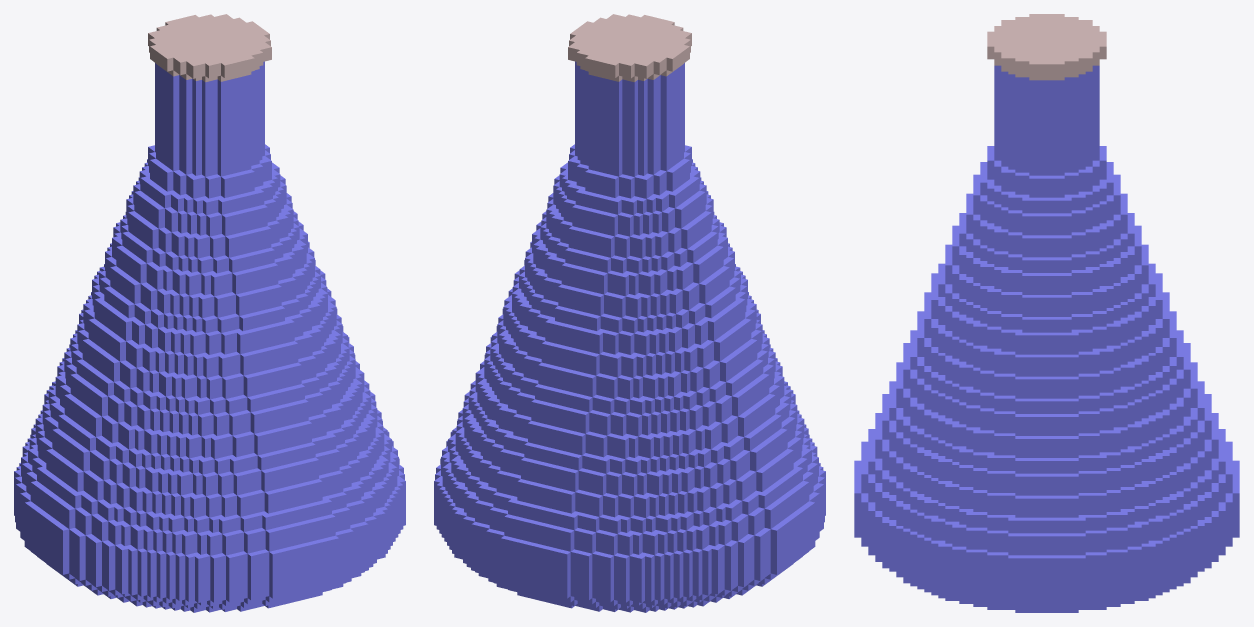
The model's file is Flask3-3-1.fbx.
The picture shows the model from 3 angles, left to right: view 1: azimuth 30°, elevation 25°; view 2: azimuth 150°, elevation 25°; view 3: azimuth 270°, elevation 25°; orthographic projection.
Visible parts, largest first — view 1: Flask3-3-1.001, Flask3-3-1; view 2: Flask3-3-1.001, Flask3-3-1; view 3: Flask3-3-1.001, Flask3-3-1.
Boxes of the visible parts, left/top/right/bottom form: Flask3-3-1.001: left=14, top=61, right=405, bottom=612; Flask3-3-1: left=148, top=14, right=271, bottom=82; Flask3-3-1.001: left=434, top=61, right=825, bottom=612; Flask3-3-1: left=568, top=14, right=691, bottom=82; Flask3-3-1.001: left=854, top=65, right=1239, bottom=612; Flask3-3-1: left=987, top=14, right=1106, bottom=80.
Bounding box in the file's own units: 5.5 × 7.9 × 5.5.
